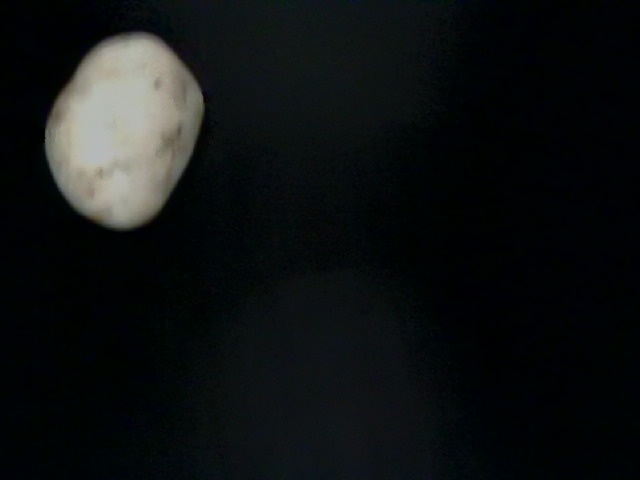QTLJ: (24, 48, 207, 344)
